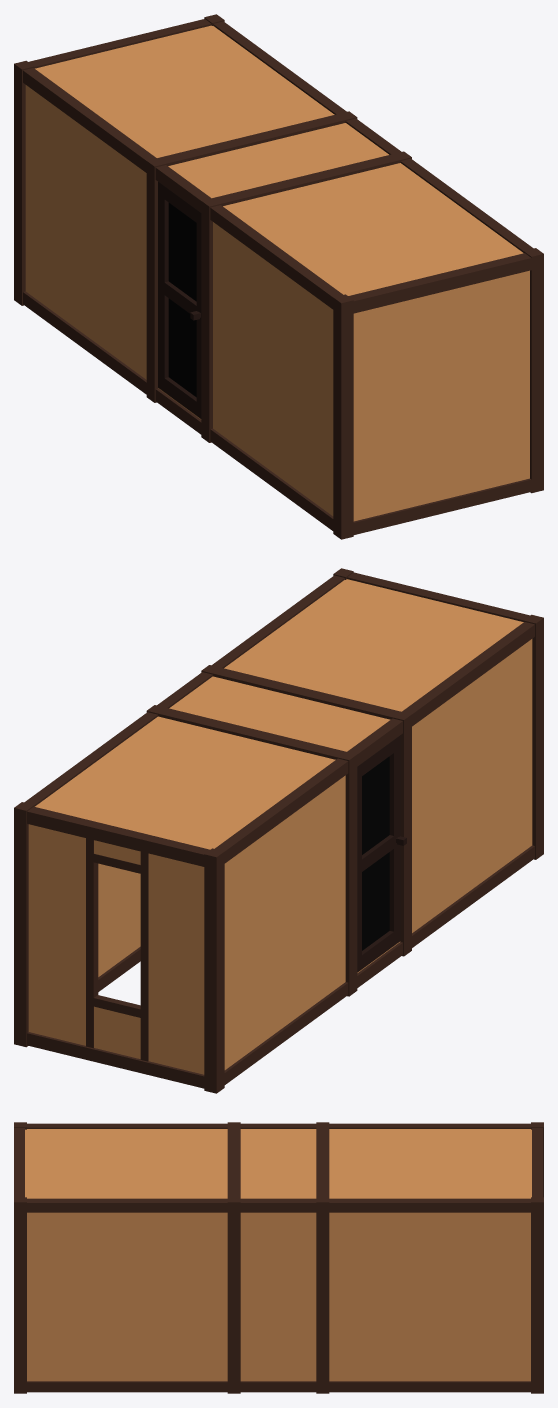
The model's file is Chicken_pen_01_B.gltf.
3 renders of one model, top to bottom at view 1: azimuth 30°, elevation 25°; view 2: azimuth 150°, elevation 25°; view 3: azimuth 270°, elevation 25°, orthographic. The views are drawn at different scales.
Visible parts, largest first — view 1: Chicken_pen_01_B, Door; view 2: Chicken_pen_01_B, Door; view 3: Chicken_pen_01_B.
Boxes of the visible parts, x1,y1,x2,y2 form: Chicken_pen_01_B: (14, 14, 543, 539); Door: (158, 182, 201, 418); Chicken_pen_01_B: (14, 568, 543, 1093); Door: (357, 735, 406, 972); Chicken_pen_01_B: (14, 1122, 543, 1393).
Bounding box in the file's own units: 0.752 × 0.8169 × 2.05.
